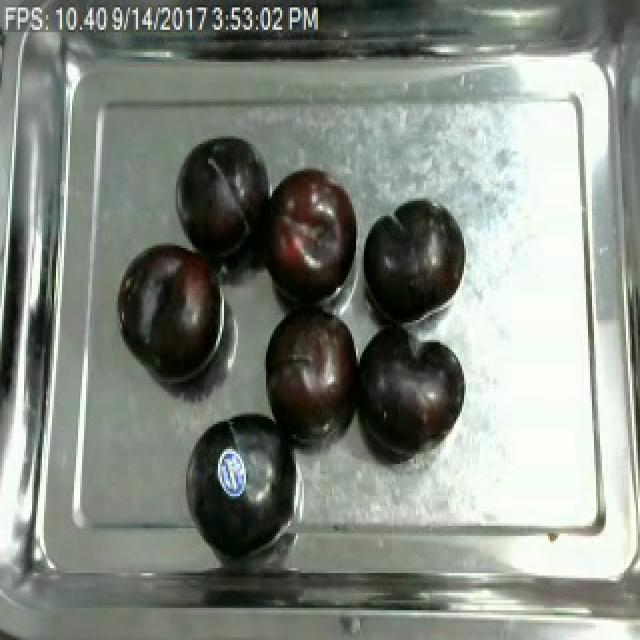Fruit: (178, 399, 300, 558), (250, 158, 364, 312), (348, 332, 470, 467), (256, 300, 366, 447), (356, 191, 470, 330), (122, 236, 228, 384), (172, 132, 270, 266)
